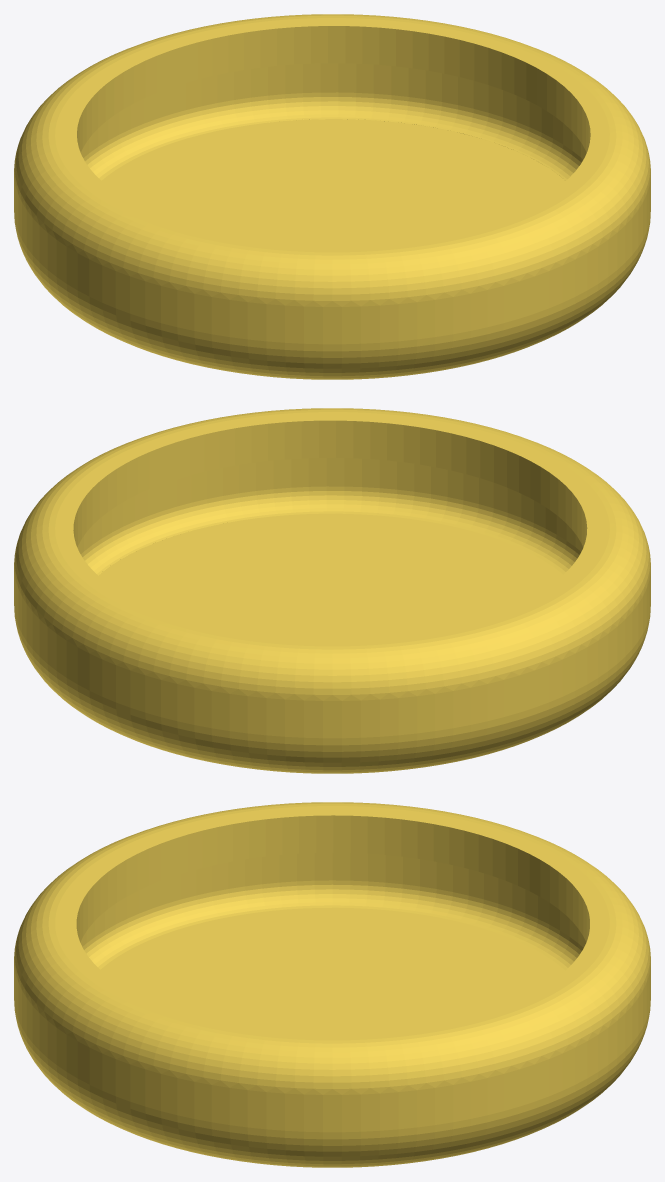
3 renders of one model, top to bottom at view 1: azimuth 30°, elevation 25°; view 2: azimuth 150°, elevation 25°; view 3: azimuth 270°, elevation 25°, orthographic.
Visible parts, largest first — view 1: bottle cap.stl_fil1; view 2: bottle cap.stl_fil1; view 3: bottle cap.stl_fil1.
Boxes of the visible parts, <box> form: bottle cap.stl_fil1: <box>14,14,650,379</box>; bottle cap.stl_fil1: <box>14,408,650,773</box>; bottle cap.stl_fil1: <box>14,802,650,1167</box>.
Bounding box in the file's own units: 0.031 × 0.007 × 0.031.
